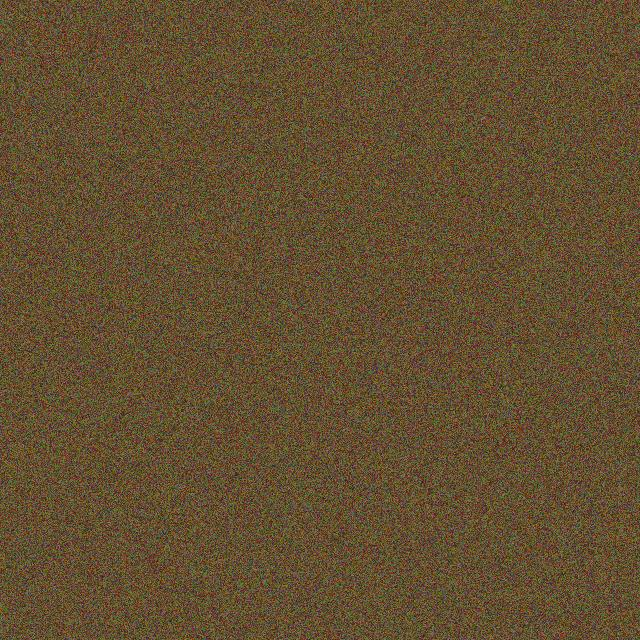metal_debris: (358, 243, 421, 298)
